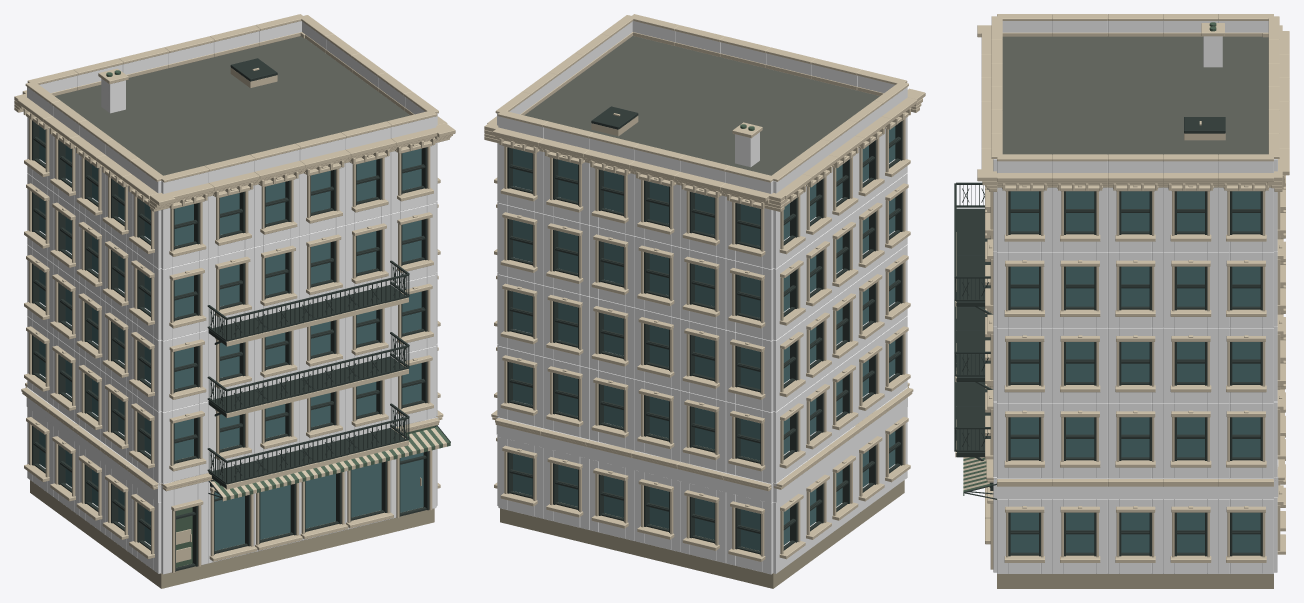
The model's file is balcony-apartments.glb.
3 renders of one model, left to right at view 1: azimuth 30°, elevation 25°; view 2: azimuth 150°, elevation 25°; view 3: azimuth 270°, elevation 25°, orthographic. The views are drawn at different scales.
Parts seen in each view (by area): view 1: Connected roof.016, Foundation.016, nyc-main/north/0/833/wall.011, nyc-main/north/2/833/wall.011, nyc-main/north/1/833/wall.011, nyc-main/north/3/833/wall.011, nyc-main/north/0/2500/glass.005, nyc-main/north/3/9167/wall.011, nyc-main/north/3/5833/wall.011, nyc-main/north/0/5833/glass.011, nyc-main/north/0/7500/glass.011, nyc-main/north/3/7500/wall.011 (+139 smaller); view 2: Connected roof.016, Foundation.016, nyc-main/south/1/833/wall.011, nyc-main/south/2/833/wall.011, nyc-main/south/3/833/wall.011, nyc-main/south/0/833/wall.011, nyc-main/south/2/2500/wall.011, nyc-main/south/1/2500/wall.011, nyc-main/south/3/2500/wall.011, nyc-main/south/0/2500/wall.011, nyc-main/south/1/5833/wall.011, nyc-main/south/3/5833/wall.011 (+143 smaller); view 3: Connected roof.016, Foundation.016, nyc-main/east/1/5000/wall.014, nyc-main/east/1/7000/wall.014, nyc-main/east/1/9000/wall.014, nyc-main/east/1/1000/wall.014, nyc-main/east/2/5000/wall.014, nyc-main/east/3/5000/wall.011, nyc-main/east/2/1000/wall.014, nyc-main/east/2/7000/wall.014, nyc-main/east/2/9000/wall.014, nyc-main/east/1/3000/wall.014 (+140 smaller).
Part boxes in pixels (x1,y1,x2,y2): Connected roof.016: [55, 36, 410, 175]; Foundation.016: [30, 434, 434, 588]; nyc-main/north/0/833/wall.011: [161, 481, 208, 574]; nyc-main/north/2/833/wall.011: [161, 330, 208, 412]; nyc-main/north/1/833/wall.011: [161, 401, 208, 483]; nyc-main/north/3/833/wall.011: [161, 258, 208, 340]; nyc-main/north/0/2500/glass.005: [214, 492, 244, 550]; nyc-main/north/3/9167/wall.011: [390, 203, 436, 285]; nyc-main/north/3/5833/wall.011: [299, 225, 345, 306]; nyc-main/north/0/5833/glass.011: [305, 474, 335, 528]; nyc-main/north/0/7500/glass.011: [351, 462, 381, 517]; nyc-main/north/3/7500/wall.011: [345, 214, 390, 295]; Connected roof.016: [524, 36, 879, 175]; Foundation.016: [500, 426, 904, 588]; nyc-main/south/1/833/wall.011: [726, 401, 773, 483]; nyc-main/south/2/833/wall.011: [726, 330, 773, 412]; nyc-main/south/3/833/wall.011: [726, 258, 773, 340]; nyc-main/south/0/833/wall.011: [726, 492, 773, 574]; nyc-main/south/2/2500/wall.011: [680, 319, 726, 401]; nyc-main/south/1/2500/wall.011: [680, 390, 726, 472]; nyc-main/south/3/2500/wall.011: [680, 247, 726, 329]; nyc-main/south/0/2500/wall.011: [680, 481, 726, 563]; nyc-main/south/1/5833/wall.011: [589, 368, 634, 450]; nyc-main/south/3/5833/wall.011: [589, 225, 635, 307]; Connected roof.016: [1002, 36, 1268, 154]; Foundation.016: [997, 574, 1273, 588]; nyc-main/east/1/5000/wall.014: [1108, 403, 1163, 478]; nyc-main/east/1/7000/wall.014: [1052, 403, 1107, 478]; nyc-main/east/1/9000/wall.014: [997, 403, 1052, 478]; nyc-main/east/1/1000/wall.014: [1218, 403, 1273, 478]; nyc-main/east/2/5000/wall.014: [1108, 328, 1163, 403]; nyc-main/east/3/5000/wall.011: [1108, 252, 1163, 327]; nyc-main/east/2/1000/wall.014: [1218, 328, 1273, 403]; nyc-main/east/2/7000/wall.014: [1052, 328, 1107, 403]; nyc-main/east/2/9000/wall.014: [997, 328, 1052, 403]; nyc-main/east/1/3000/wall.014: [1163, 403, 1218, 478].
Bounding box in the file's own units: 13.12 × 17.96 × 12.1.
